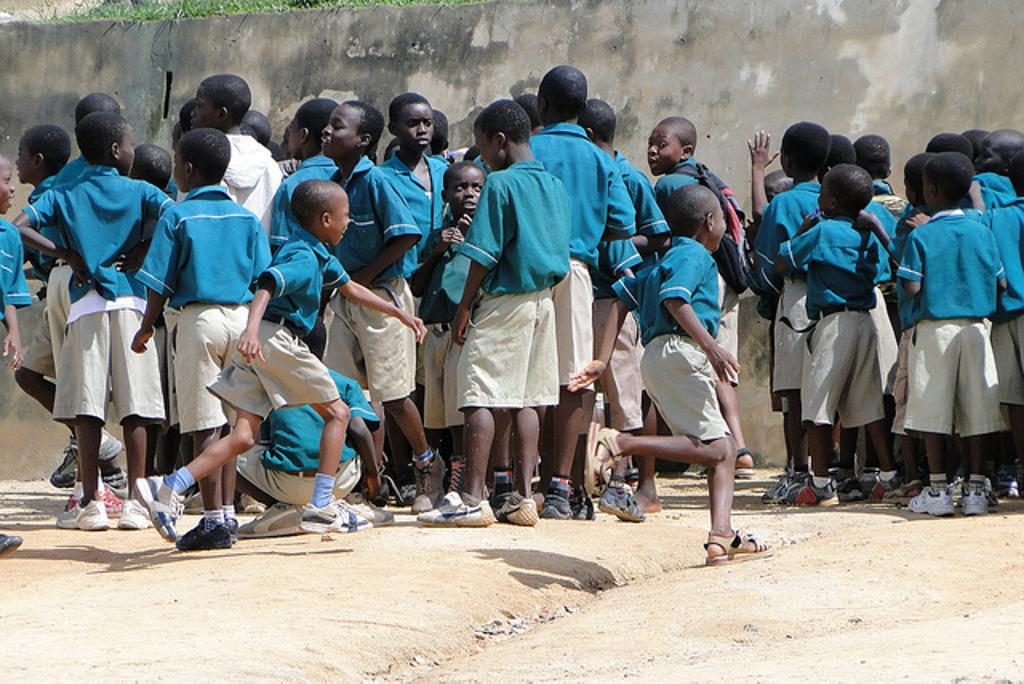face: (322, 107, 360, 157), (448, 171, 484, 216), (398, 106, 433, 152), (699, 198, 727, 255), (190, 87, 222, 135), (648, 128, 680, 176), (474, 126, 506, 171), (323, 193, 349, 244), (16, 136, 43, 184), (110, 130, 136, 177), (174, 150, 196, 192), (819, 178, 839, 218), (1, 165, 15, 215)
